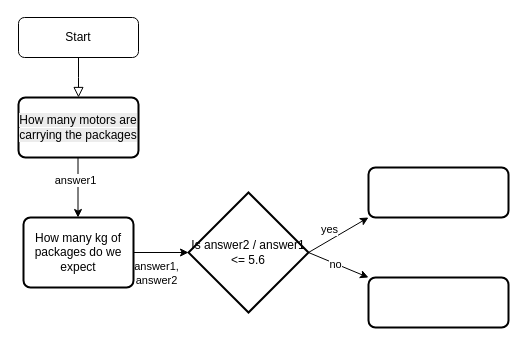
Some shapes in this 526 by 346 pixel diagram are drawn without their labels. Each missing label, with the centre of its shape:
print("No. The conveyor belt cannot carry the packages"): the point at 438,302
print("Yes! The conveyor belt can carry the packages"): the point at 438,192
